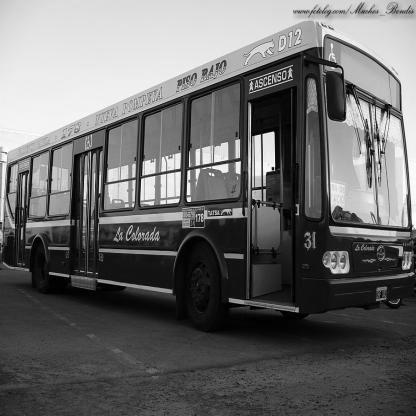bus: (24, 27, 414, 326)
